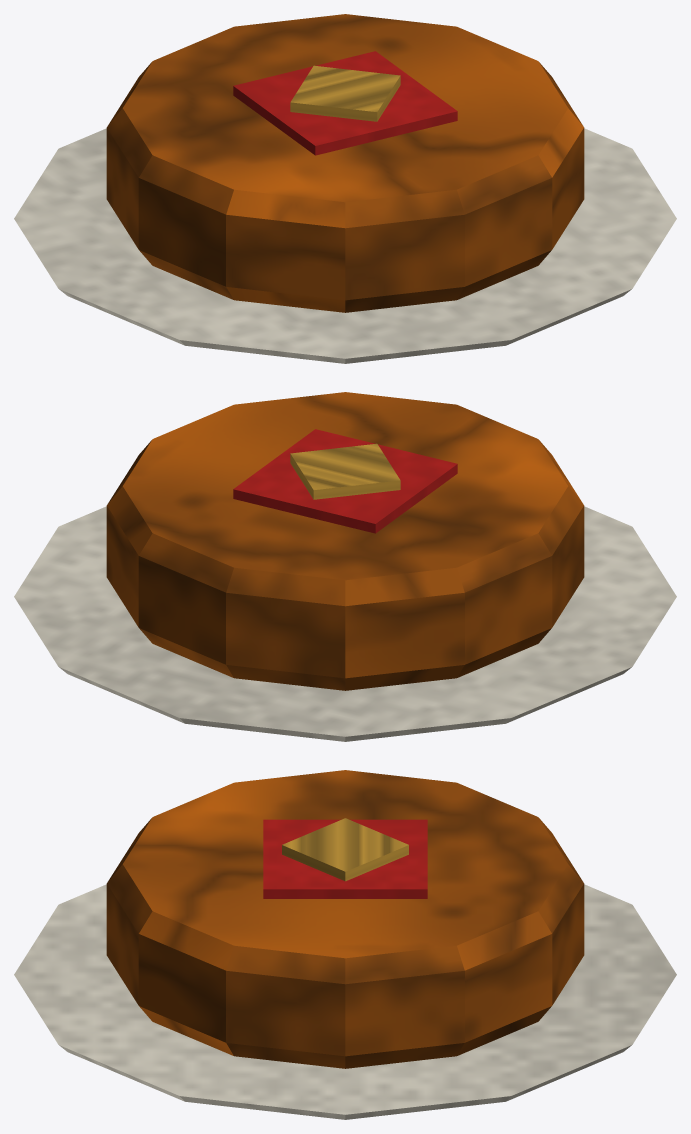
File: nian_gao.fbx
3 renders of one model, top to bottom at view 1: azimuth 30°, elevation 25°; view 2: azimuth 150°, elevation 25°; view 3: azimuth 270°, elevation 25°, orthographic.
Parts seen in each view (by area): view 1: nian_gao; view 2: nian_gao; view 3: nian_gao.
Boxes of the visible parts, x1,y1,x2,y2 form: nian_gao: [14, 14, 676, 363]; nian_gao: [14, 392, 676, 741]; nian_gao: [14, 770, 676, 1119].
Size of the model in its own units: 25 by 8.4 by 25.
